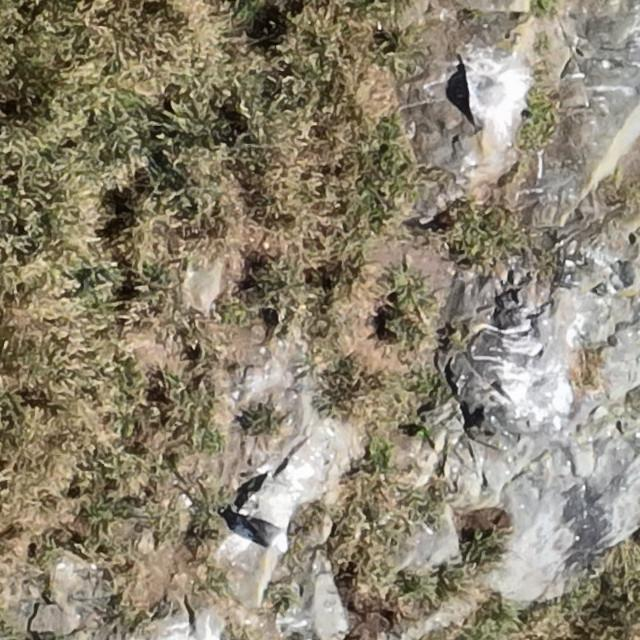umineko: (241, 520, 298, 556)
